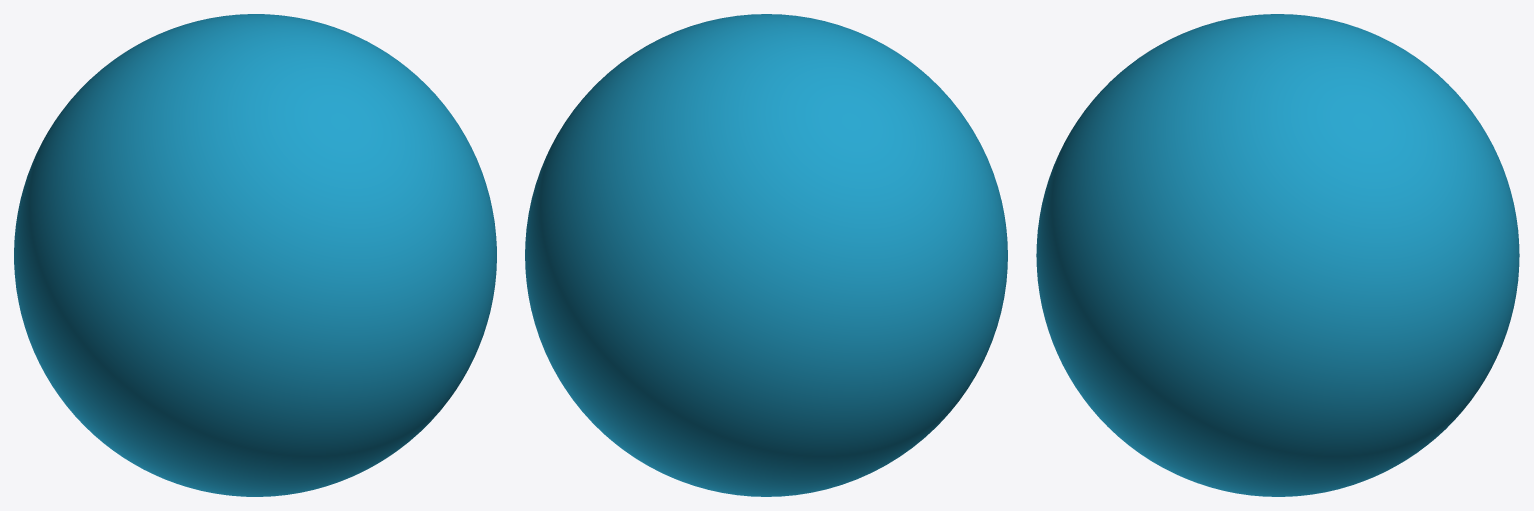
Rendered from Mars.FBX.
3 views of the same model, side by side, from view 1: azimuth 30°, elevation 25°; view 2: azimuth 150°, elevation 25°; view 3: azimuth 270°, elevation 25° (orthographic).
Parts seen in each view (by area): view 1: GeoSphere001; view 2: GeoSphere001; view 3: GeoSphere001.
Part boxes in pixels (left/top/right/bottom): GeoSphere001: left=14, top=14, right=496, bottom=496; GeoSphere001: left=525, top=14, right=1007, bottom=496; GeoSphere001: left=1036, top=14, right=1519, bottom=496.
Size of the model in its own units: 31.45 by 31.45 by 31.45.
2 materials, 2 textured.
